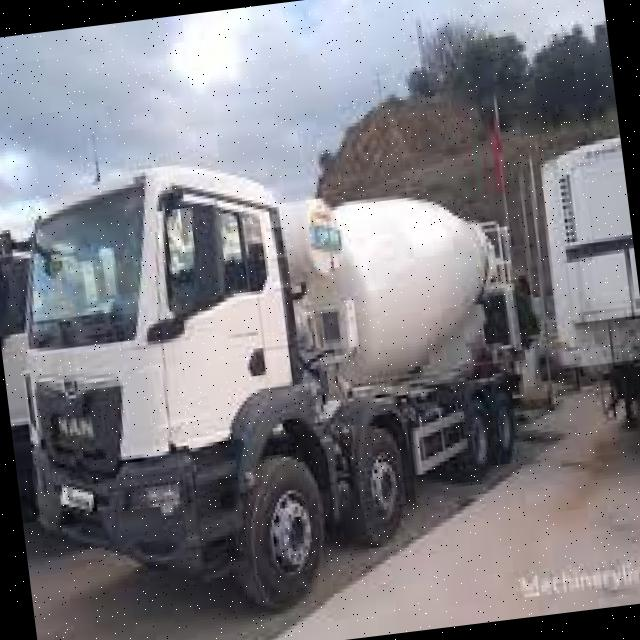Mixer Truck: (0, 123, 554, 636)
